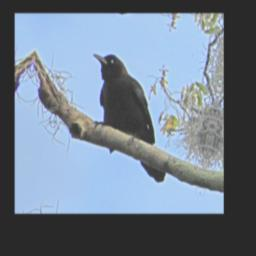Crow: (74, 49, 184, 185)
